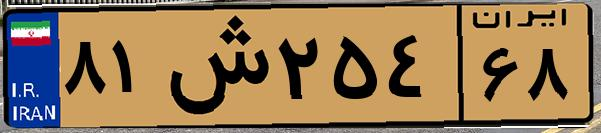1: (110, 28, 158, 98)
2: (270, 28, 330, 110)
4: (385, 28, 445, 110)
5: (330, 28, 385, 110)
6: (475, 38, 525, 113)
8: (57, 26, 110, 100), (525, 38, 570, 115)
ش: (158, 12, 270, 120)
